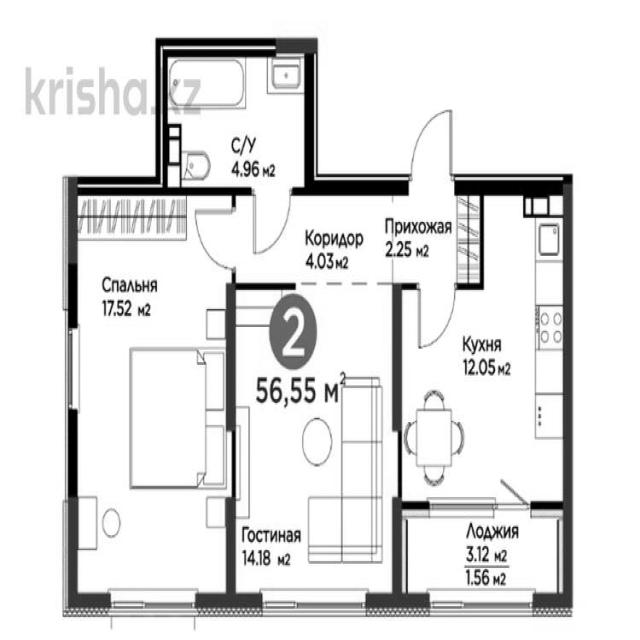balcony: (399, 511, 568, 607)
bathroom: (164, 44, 313, 188)
hallway: (232, 190, 381, 284), (383, 192, 481, 290)
kitchen: (397, 177, 570, 504)
living_room: (70, 185, 230, 607), (233, 290, 398, 601)
